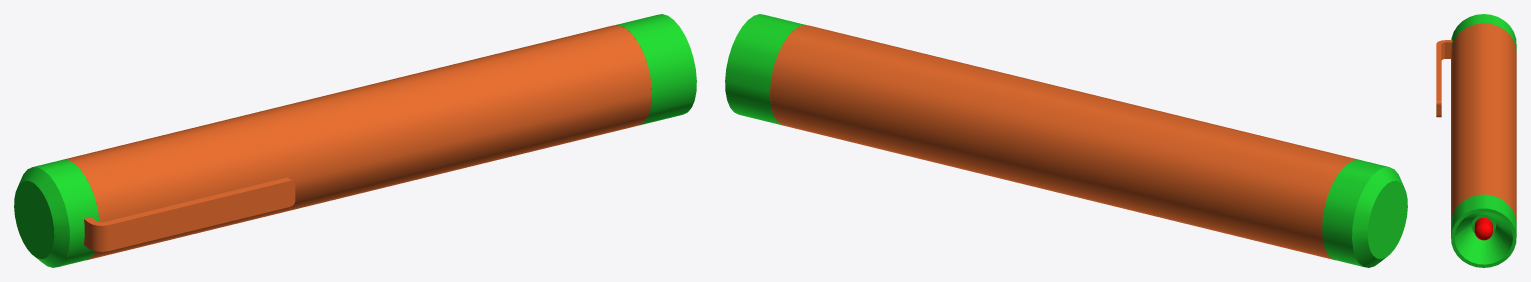
The model's file is penlight.glb.
The picture shows the model from 3 angles, left to right: view 1: azimuth 30°, elevation 25°; view 2: azimuth 150°, elevation 25°; view 3: azimuth 270°, elevation 25°; orthographic projection. The views are drawn at different scales.
Parts seen in each view (by area): view 1: face_shader_816287BC, face_shader_816257A4, face_shader_81625594 (×3), face_shader_816284E6; view 2: face_shader_816287BC, face_shader_816257A4, face_shader_816284E6; view 3: face_shader_816287BC, face_shader_816284E6 (×4), face_shader_816257A4, face_shader_81625594 (×3), face_shader_81621BEC.
Boxes of the visible parts, x1=… form: face_shader_816287BC: x1=62, y1=25, x2=651, y2=259; face_shader_816257A4: x1=14, y1=160, x2=99, y2=267; face_shader_81625594 (×3): x1=89, y1=177, x2=295, y2=251; face_shader_816284E6: x1=615, y1=14, x2=696, y2=125; face_shader_816287BC: x1=770, y1=25, x2=1359, y2=259; face_shader_816257A4: x1=1322, y1=160, x2=1407, y2=267; face_shader_816284E6: x1=725, y1=14, x2=806, y2=125; face_shader_816287BC: x1=1451, y1=23, x2=1516, y2=221; face_shader_816284E6 (×4): x1=1451, y1=194, x2=1516, y2=267; face_shader_816257A4: x1=1451, y1=14, x2=1516, y2=51; face_shader_81625594 (×3): x1=1436, y1=42, x2=1451, y2=100; face_shader_81621BEC: x1=1474, y1=217, x2=1492, y2=240.
Size of the model in its own units: 0.128 by 0.018 by 0.022.
Materials: 26 (22 with a texture image).
